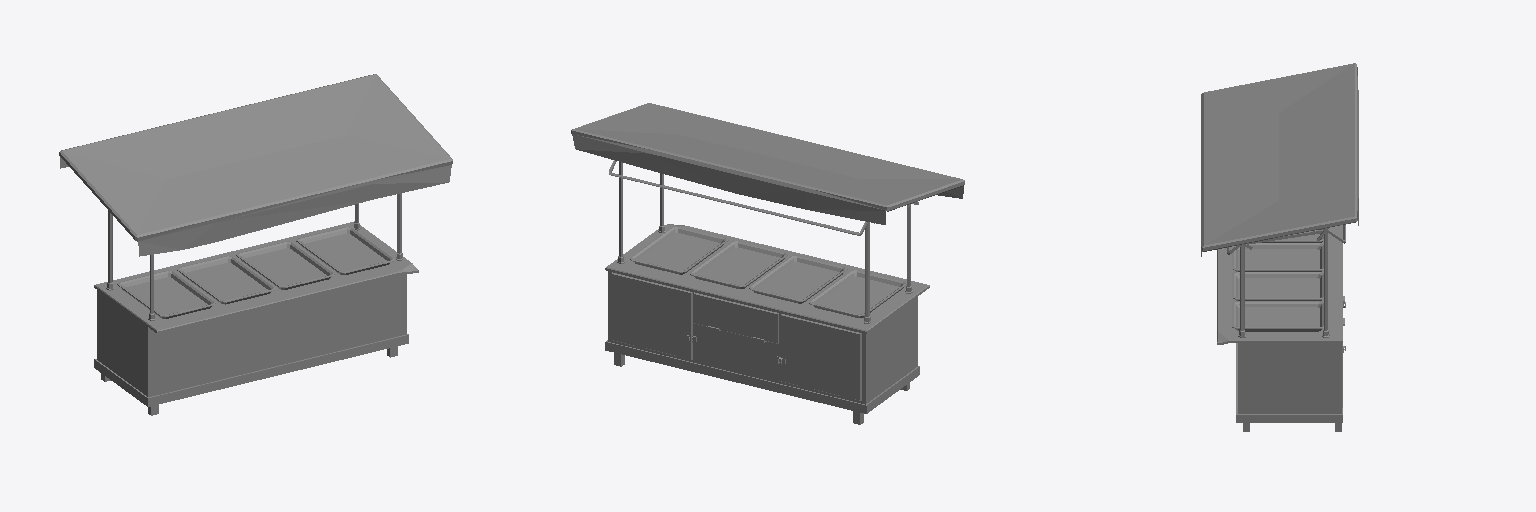
Rendered from stall.obj.
3 renders of one model, left to right at view 1: azimuth 30°, elevation 25°; view 2: azimuth 150°, elevation 25°; view 3: azimuth 270°, elevation 25°, orthographic.
Parts seen in each view (by area): view 1: city_stall; view 2: city_stall; view 3: city_stall.
Boxes of the visible parts, box(x1,y1,x2,y2) form: city_stall: box(59, 74, 452, 415); city_stall: box(571, 103, 964, 424); city_stall: box(1201, 63, 1358, 431).
Size of the model in its own units: 2.39 by 1.67 by 1.04.